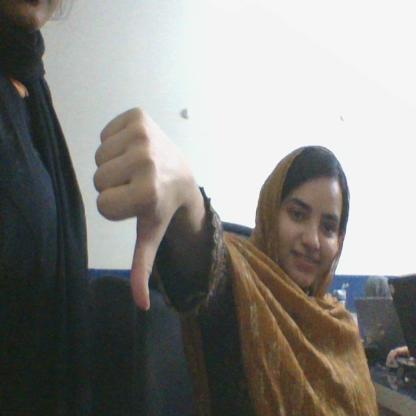thumbs-down: (88, 105, 181, 315)
